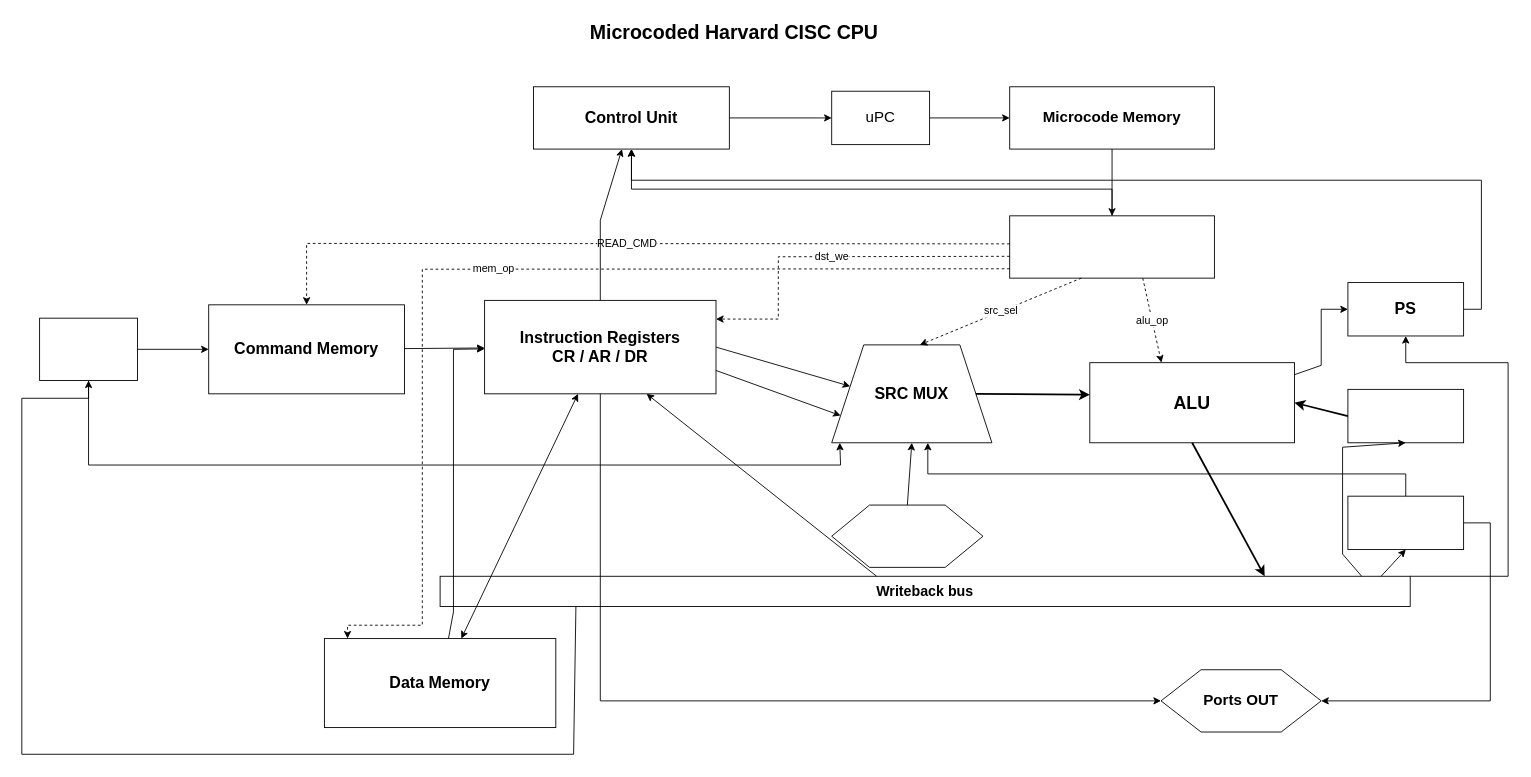
Some shapes in this 1531 by 777 pixel diagram are drawn without their labels. Here are the shapes that lost their labels. From the top down, the centre of each, then its label:
At pixel 1111 246: "MIR decoder".
At pixel 88 348: "IP".
At pixel 1405 415: "BR".
At pixel 907 535: "Port IN".
At pixel 1405 522: "AC".
